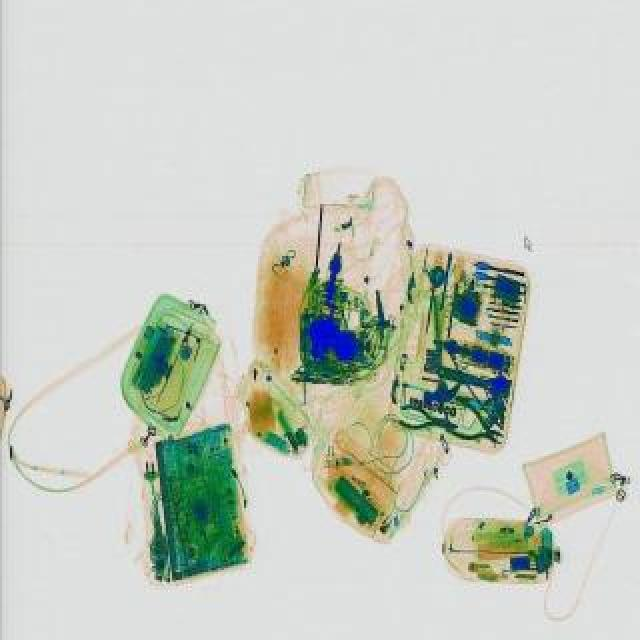wrench: (438, 396, 514, 456), (398, 406, 462, 436)
